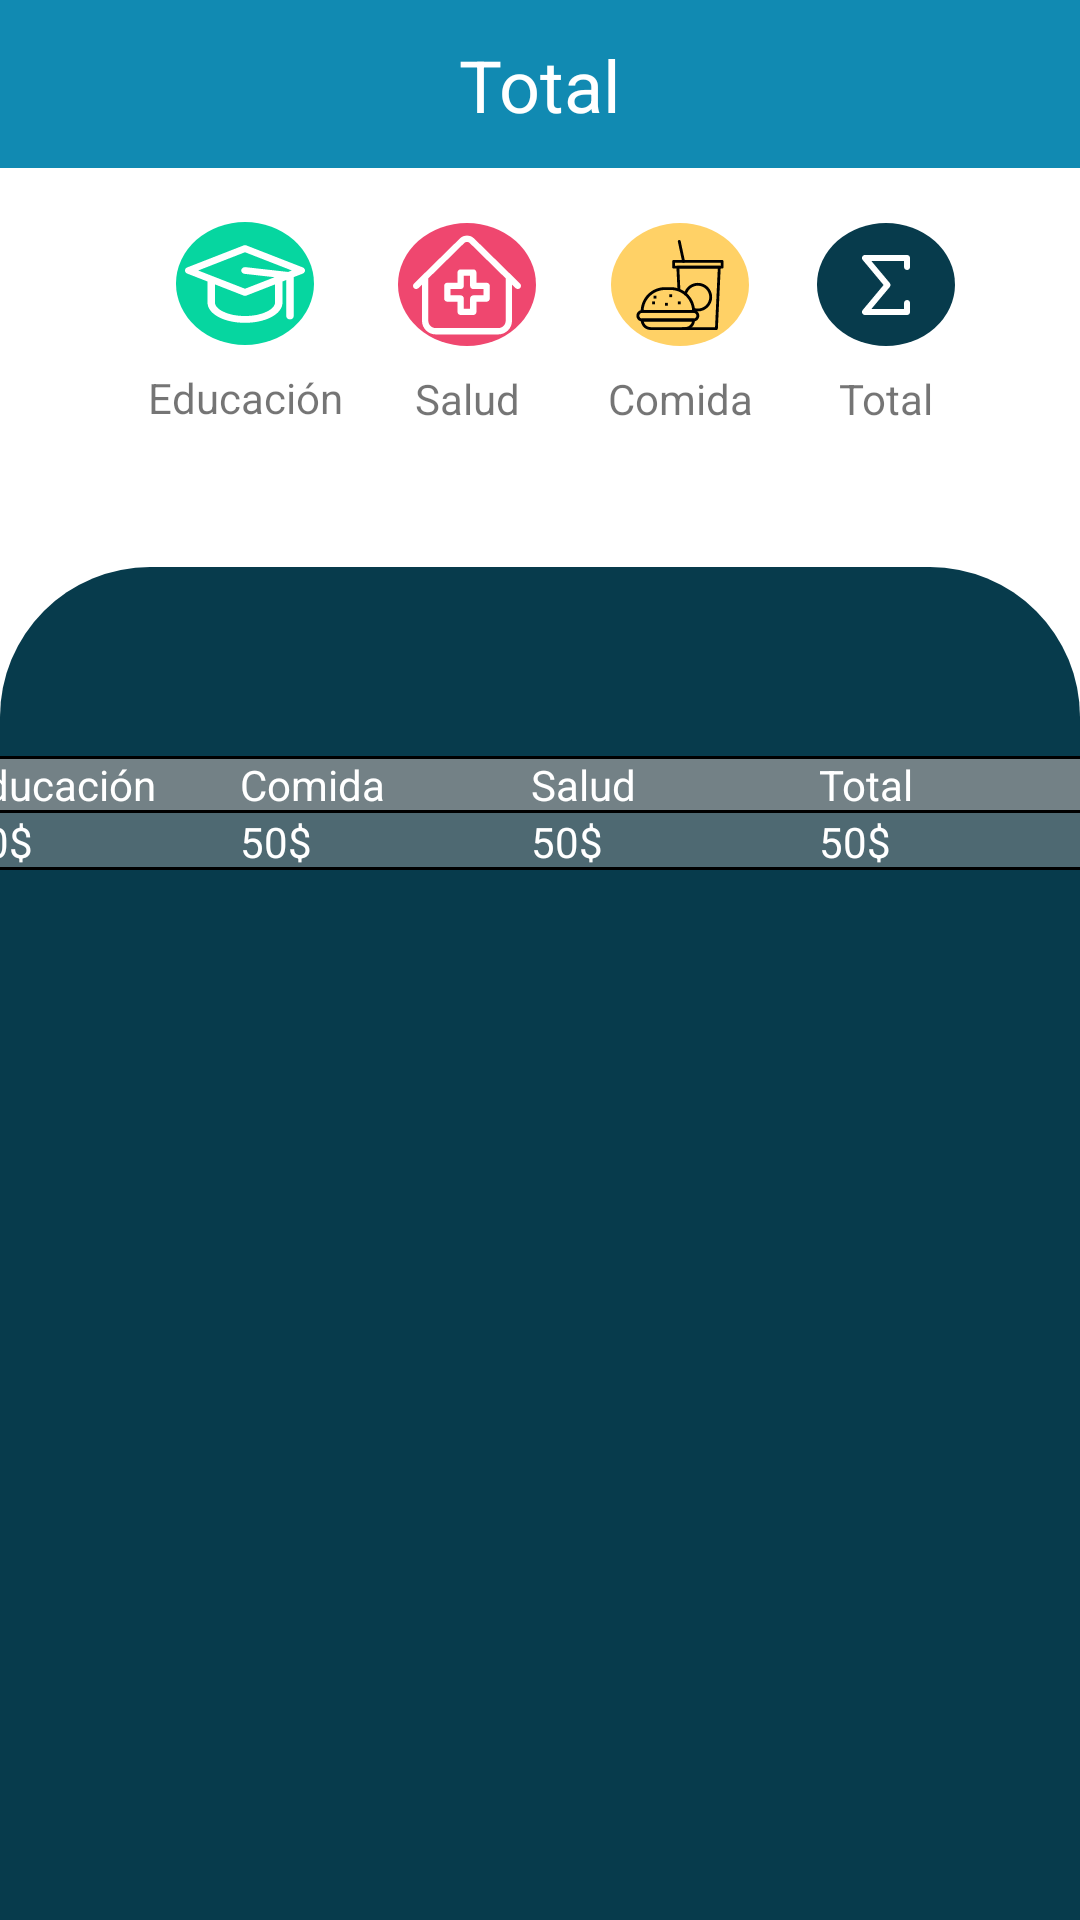

Icons on this 1080x1920 Android screen, each with the point to tap as (x,y):
hospital: (467,284)
school: (245,283)
